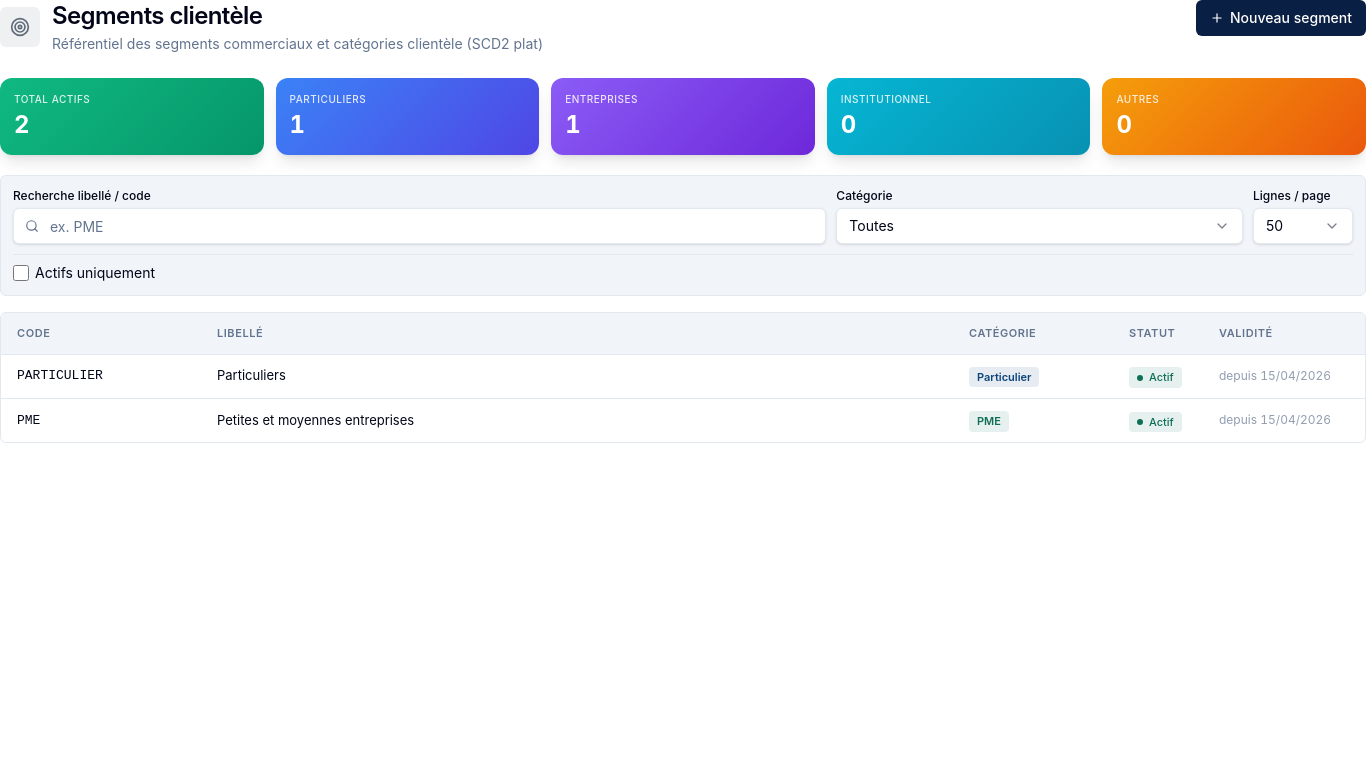
SegmentsPage › clicking a row opens the detail drawer (no parent link)
Click the text "Petites et moyennes entreprises": (316, 420) [217,412,414,428]
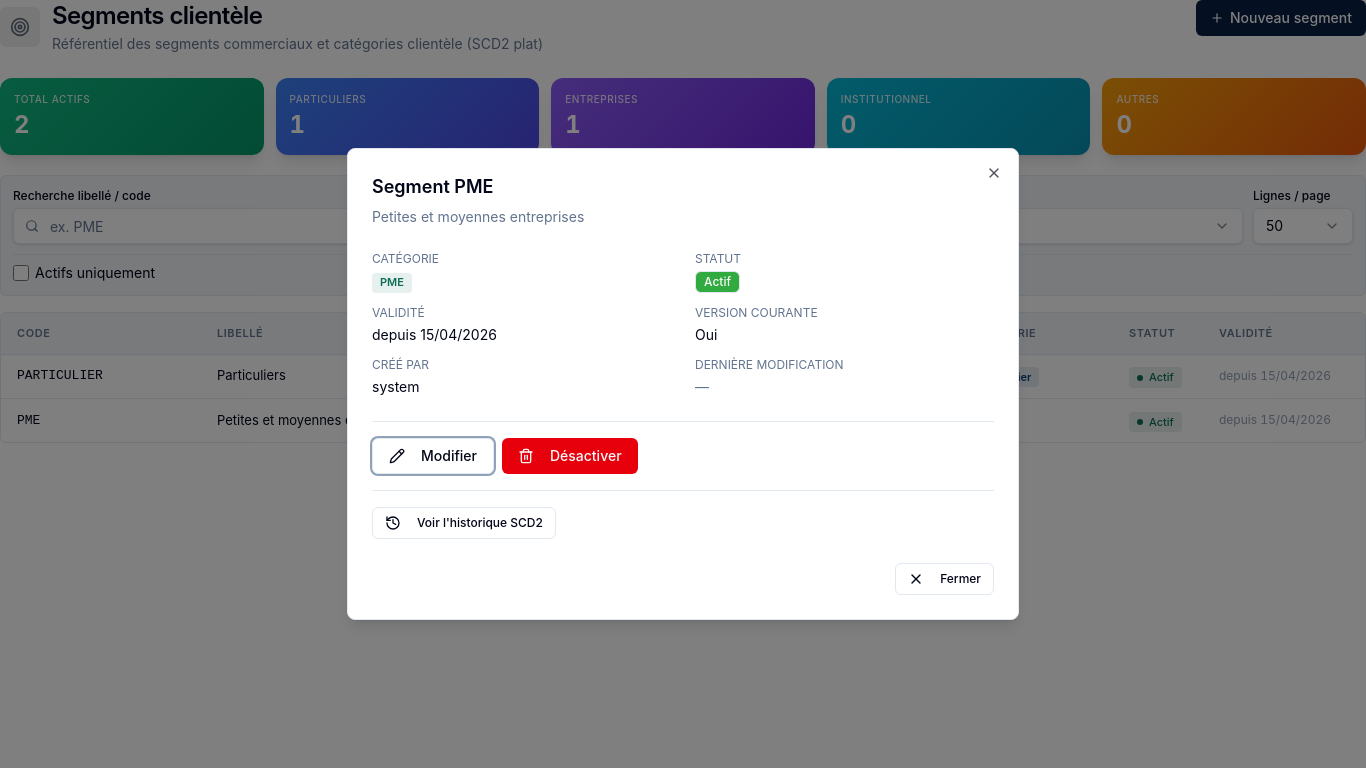
Result: the heading "Segment PME" is shown at [372,176,494,197]
